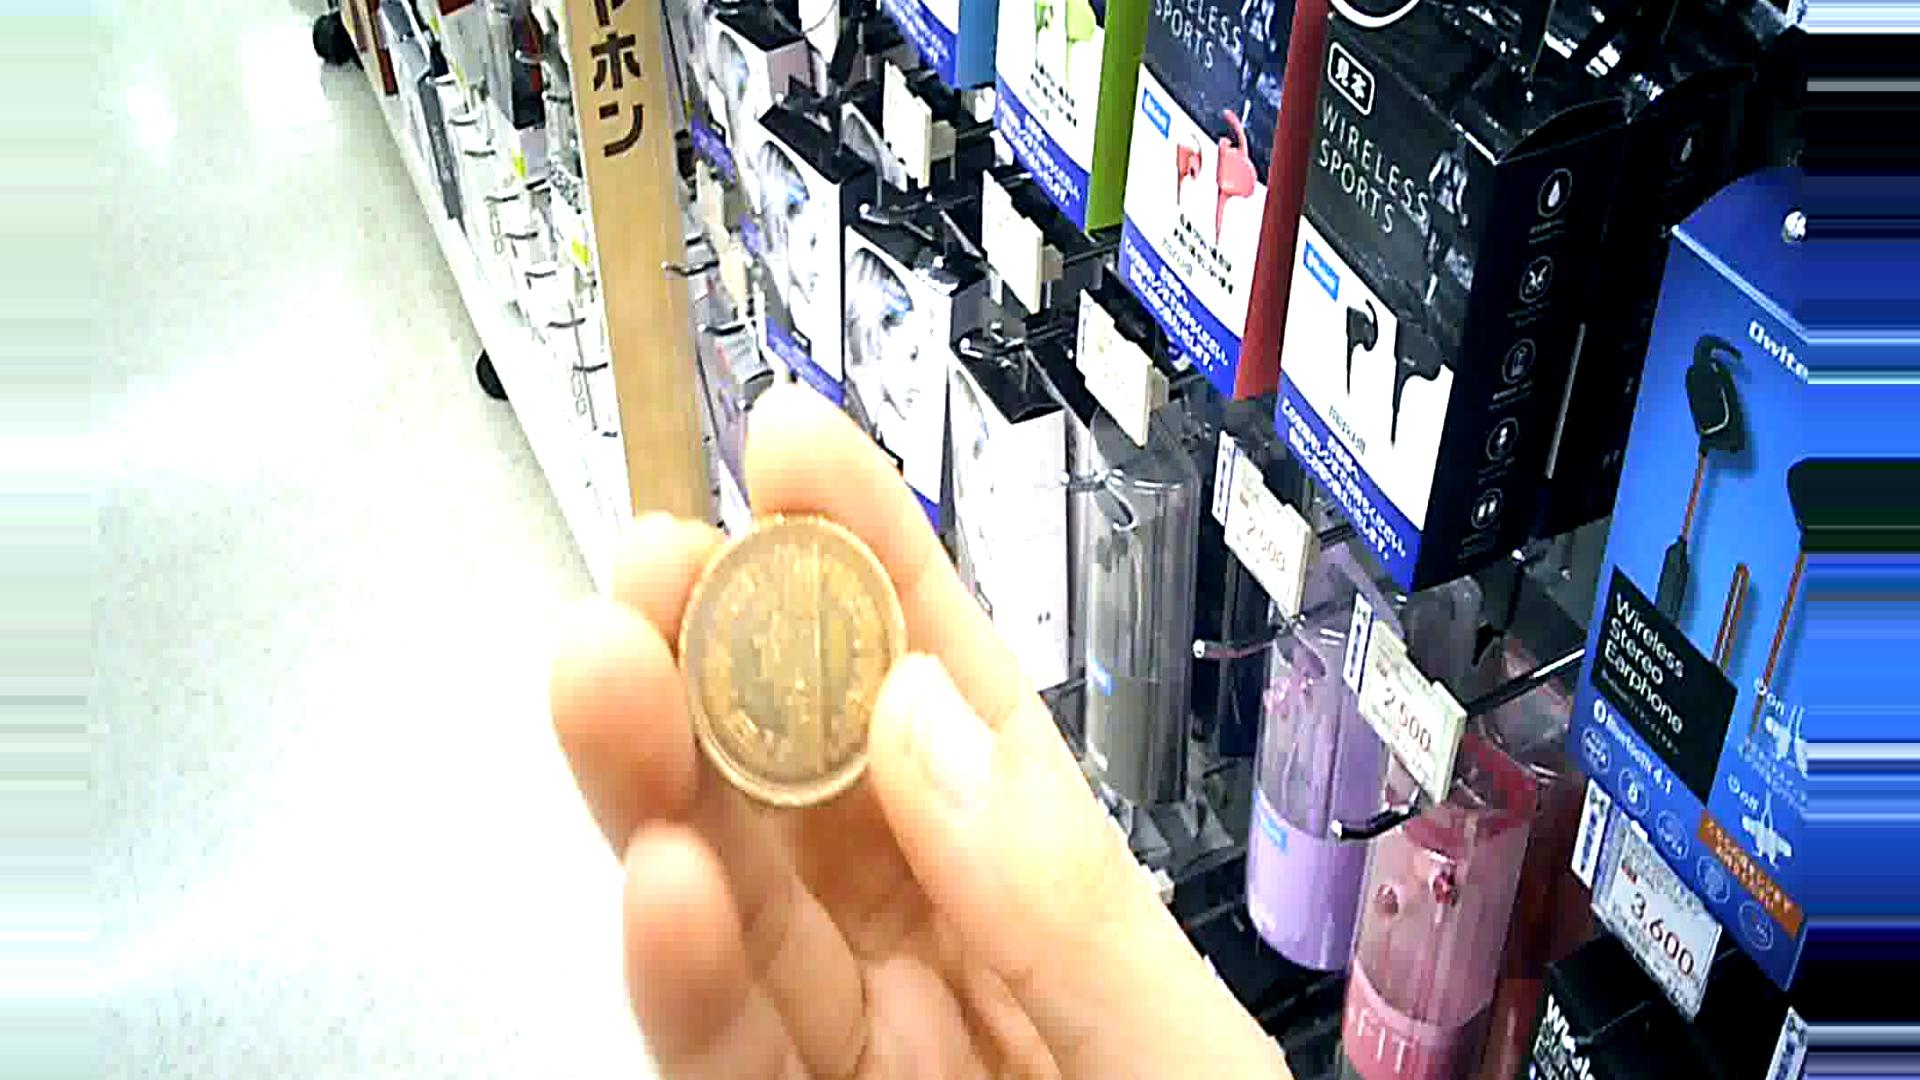10 Yen: (673, 509, 898, 810)
